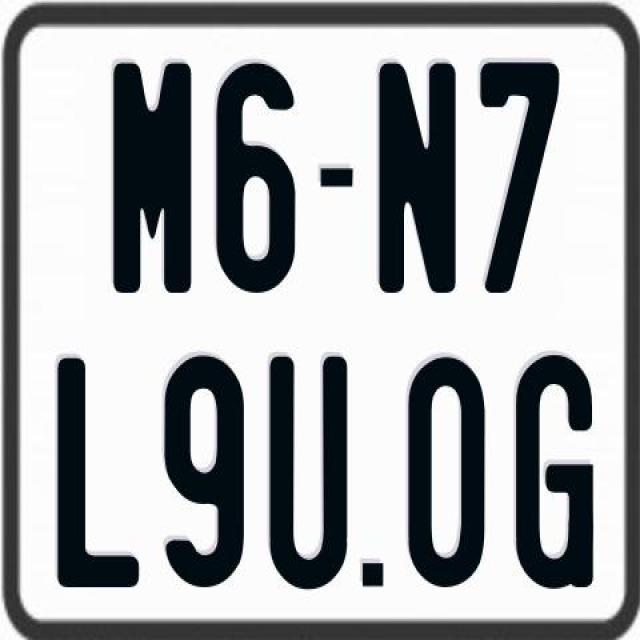0: (406, 355, 486, 592)
6: (212, 58, 296, 296)
7: (476, 62, 560, 302)
9: (164, 350, 245, 588)
G: (516, 352, 600, 587)
L: (54, 354, 142, 588)
M: (109, 63, 191, 294)
N: (378, 58, 456, 298)
U: (266, 356, 352, 588)
